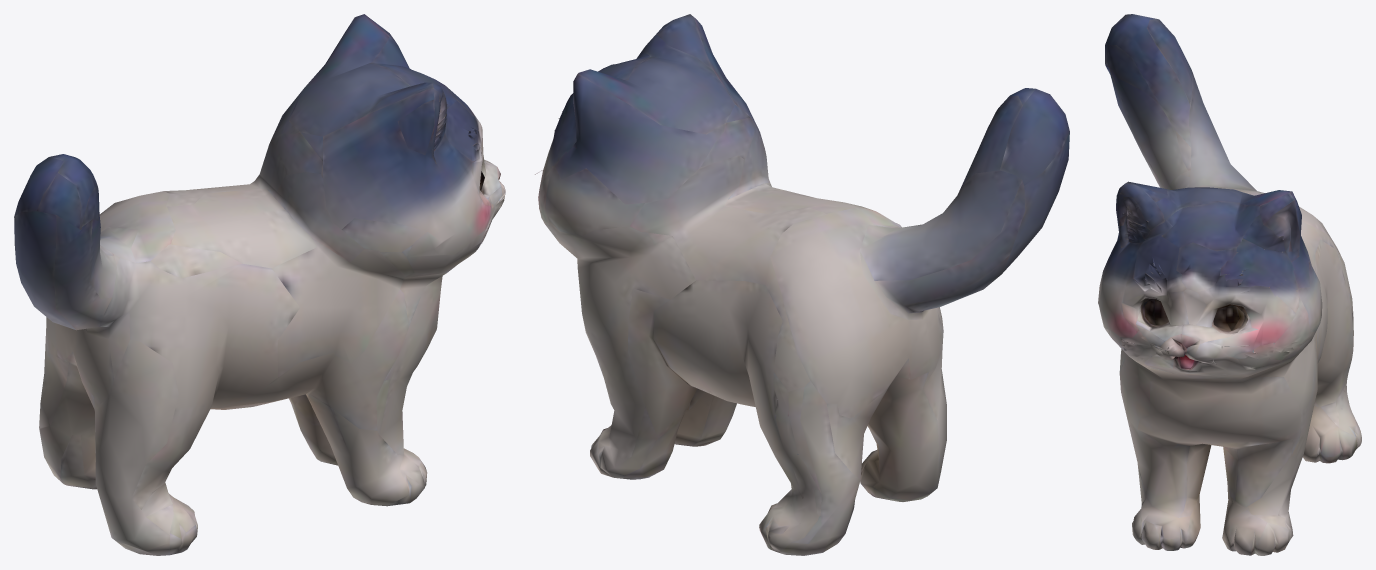
Rendered from HACHIWA-lo.glb.
3 renders of one model, left to right at view 1: azimuth 30°, elevation 25°; view 2: azimuth 150°, elevation 25°; view 3: azimuth 270°, elevation 25°, orthographic. The views are drawn at different scales.
Parts seen in each view (by area): view 1: material; view 2: material; view 3: material.
Part boxes in pixels (<box>): material: <box>14,14,505,555</box>; material: <box>535,14,1069,555</box>; material: <box>1098,14,1361,555</box>.
Bounding box in the file's own units: 1.22 × 0.9977 × 0.6298.
Materials: 1 (1 with a texture image).
